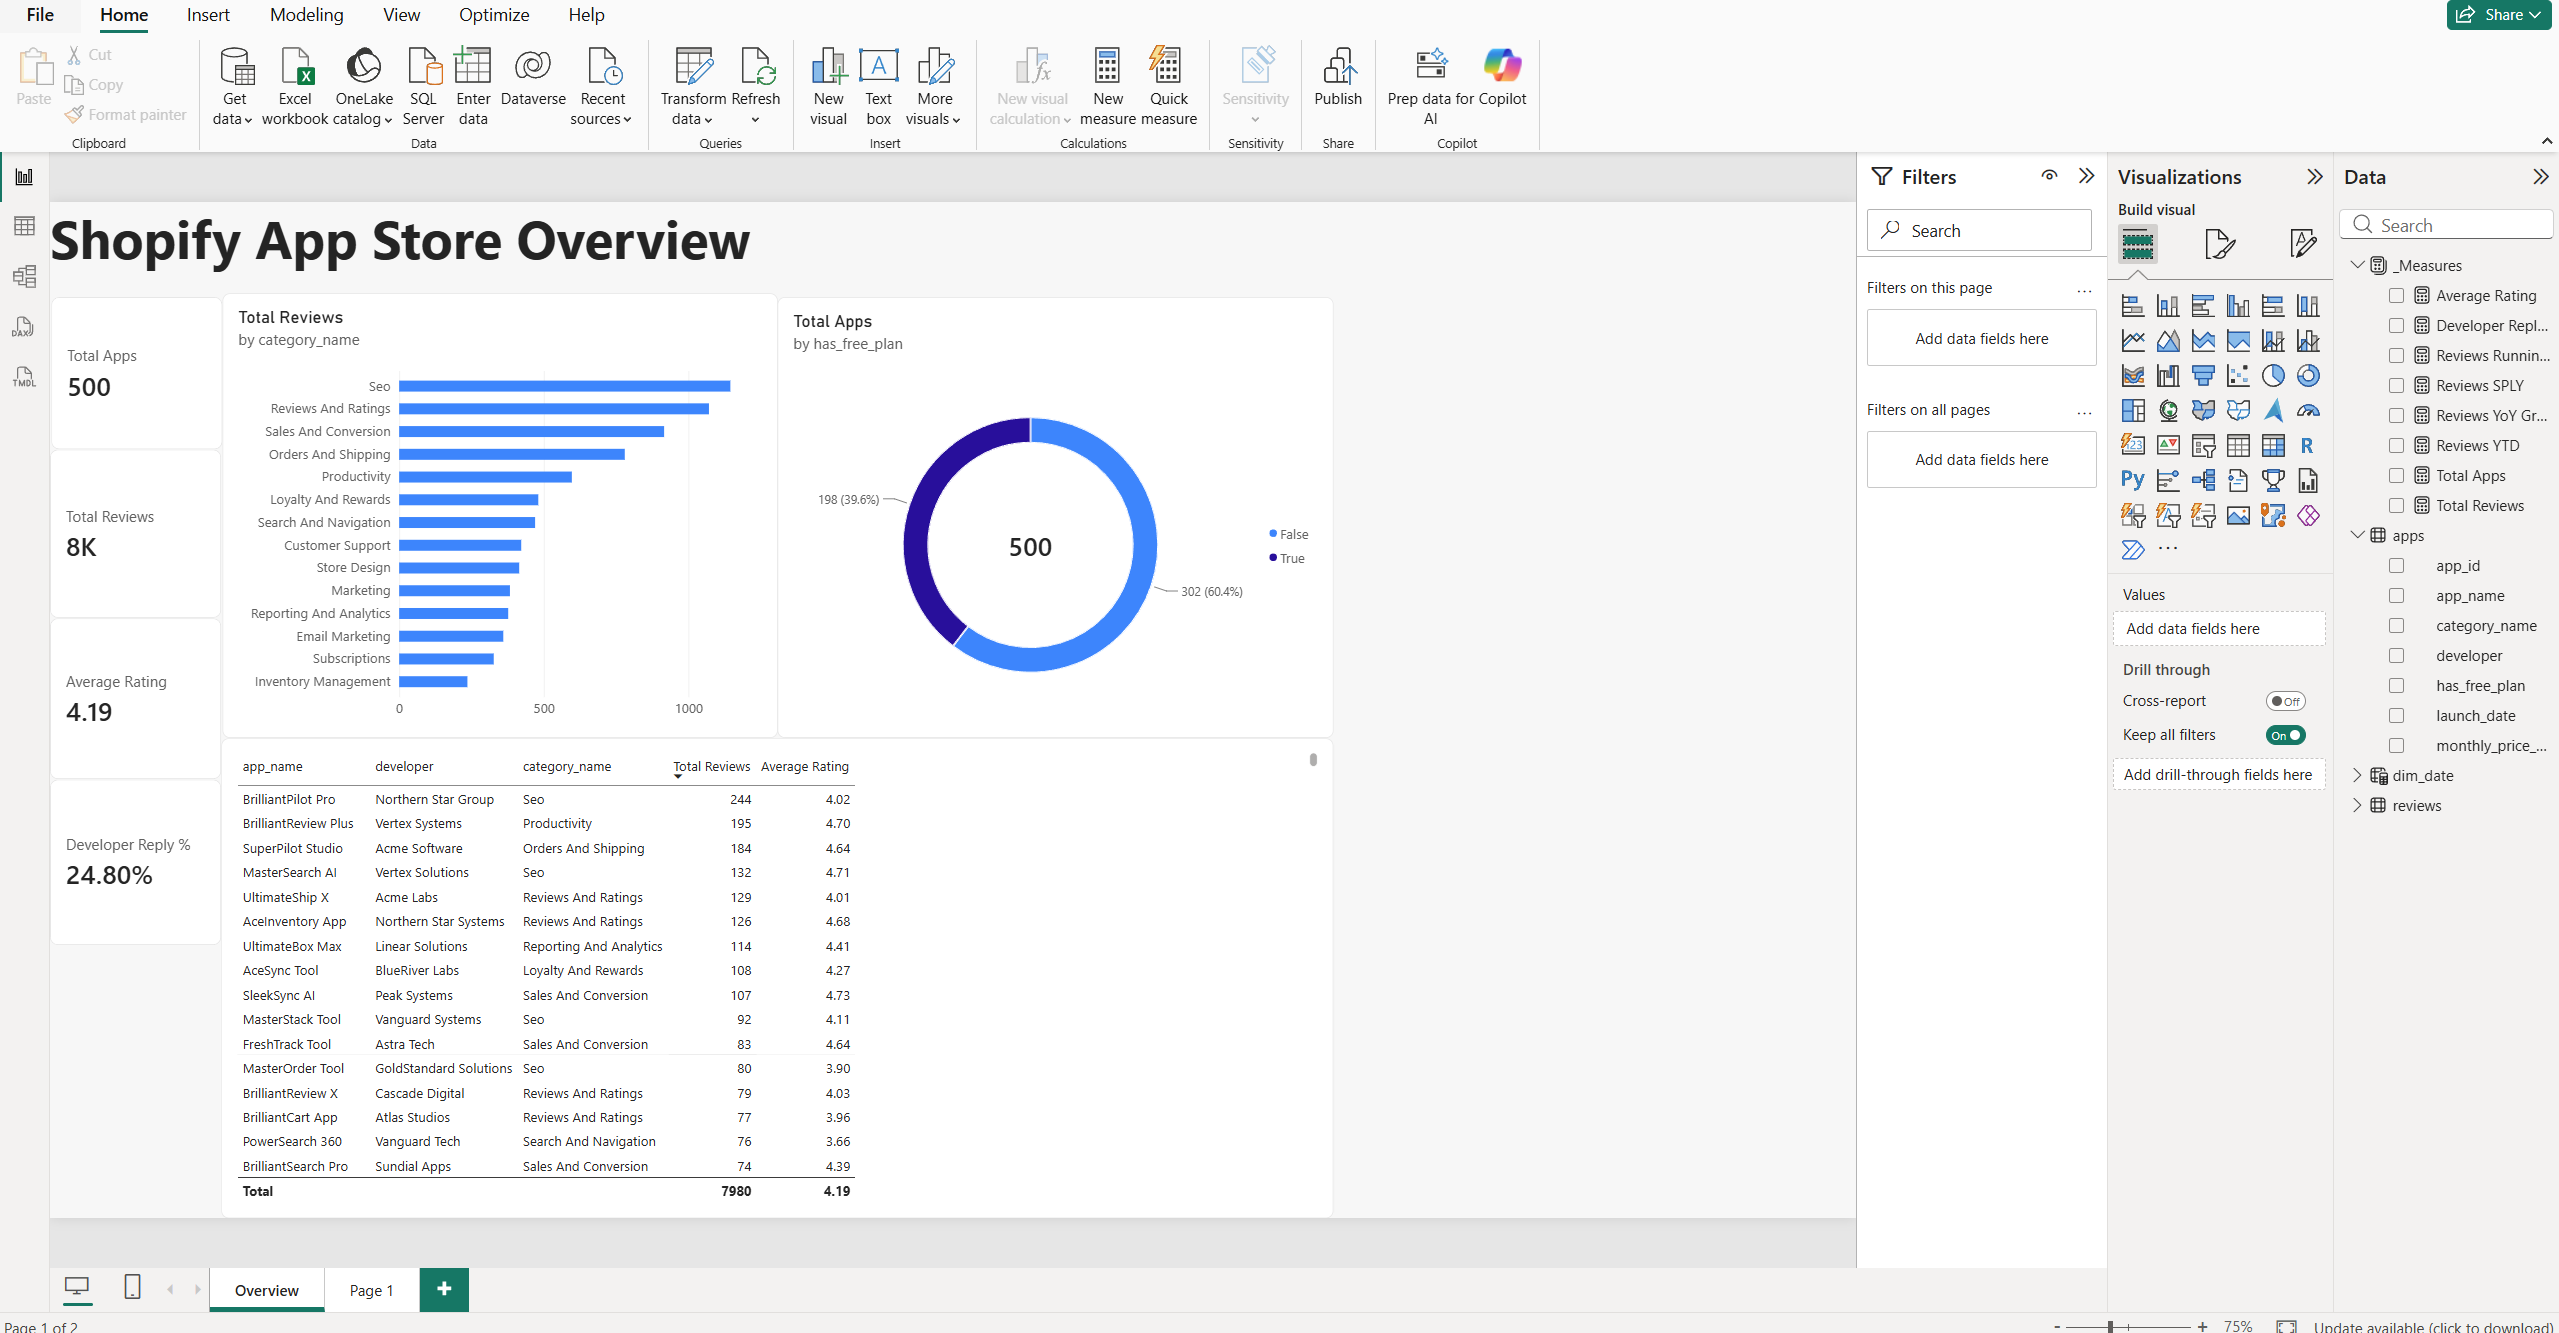

This screenshot's page, from the dashboard's own definition file:
{"tool":"powerbi","page":{"name":"Overview","canvas":[1920,1080],"ordinal":0},"visuals":[{"type":"textbox","box":[10,0,280,280],"z":0},{"type":"textbox","box":[0,0,814.1,419.8],"z":1000},{"type":"cardVisual","fields":{"Data":["_Measures.Total Apps"]},"box":[0,75.1,150.1,134.3],"z":2000},{"type":"cardVisual","fields":{"Data":["_Measures.Total Reviews"]},"box":[0,213.4,150.1,134.3],"z":3000},{"type":"cardVisual","fields":{"Data":["_Measures.Average Rating"]},"box":[0,354.3,150.1,134.3],"z":4000},{"type":"cardVisual","fields":{"Data":["_Measures.Developer Reply %"]},"box":[0,497.9,150.1,134.3],"z":5000},{"type":"clusteredBarChart","fields":{"Category":["apps.category_name"],"Y":["_Measures.Total Reviews"]},"box":[150.1,81.7,600,396.8],"z":6000},{"type":"donutChart","fields":{"Category":["apps.has_free_plan"],"Y":["_Measures.Total Apps"]},"box":[750.7,81.7,610.9,396.8],"z":7000},{"type":"tableEx","fields":{"Values":["apps.app_name","apps.developer","apps.category_name","_Measures.Total Reviews","_Measures.Average Rating"]},"box":[150.1,478.1,1211.7,582.1],"z":8000}]}

Visuals, with their boxes on the page's 1920x1080 design canvas (x1, y1, x2, y2). These are canvas units, not pixel positions in the 2559x1333 screenshot, which may show the page scaled, cropped or inside an application window:
textbox: 10/0/290/280
textbox: 0/0/814/420
cardVisual - _Measures.Total Apps: 0/75/150/209
cardVisual - _Measures.Total Reviews: 0/213/150/348
cardVisual - _Measures.Average Rating: 0/354/150/489
cardVisual - _Measures.Developer Reply %: 0/498/150/632
clusteredBarChart - apps.category_name x _Measures.Total Reviews: 150/82/750/478
donutChart - apps.has_free_plan x _Measures.Total Apps: 751/82/1362/478
tableEx - apps.app_name x apps.developer: 150/478/1362/1060
